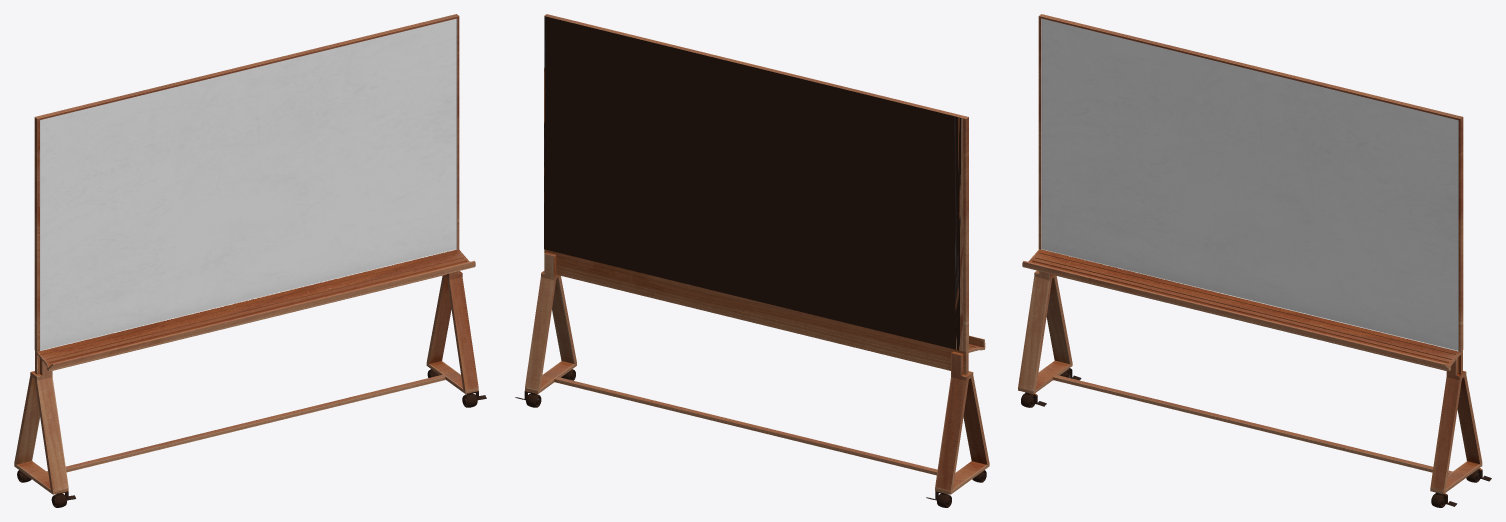
The model's file is wbFrameNew_framedOLD.fbx.
3 views of the same model, side by side, from view 1: azimuth 30°, elevation 25°; view 2: azimuth 150°, elevation 25°; view 3: azimuth 330°, elevation 25° (orthographic).
Visible parts, largest first — view 1: whiteboard_wood_VR; view 2: whiteboard_wood_VR; view 3: whiteboard_wood_VR.
Boxes of the visible parts, left/top/right/bottom form: whiteboard_wood_VR: left=14, top=14, right=486, bottom=507; whiteboard_wood_VR: left=515, top=14, right=989, bottom=507; whiteboard_wood_VR: left=1018, top=14, right=1491, bottom=507.
Size of the model in its own units: 280 by 232 by 46.36.
1 material, 1 textured.
